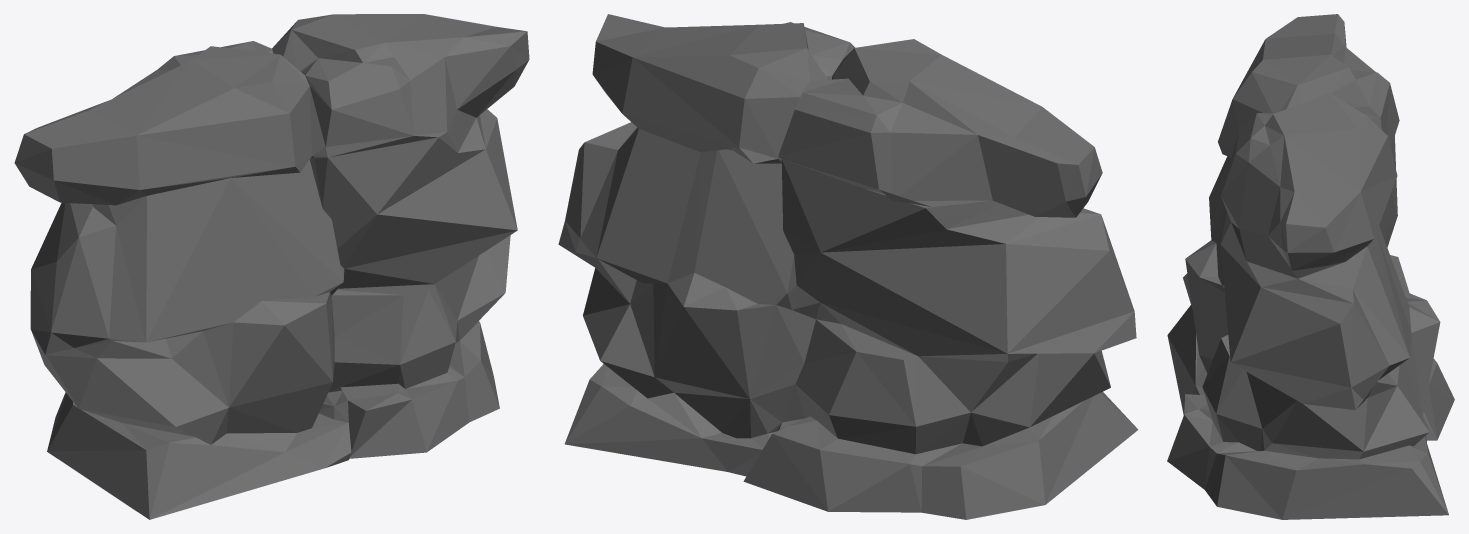
File: rock__rockform_wall_short2_medium.glb
3 views of the same model, side by side, from view 1: azimuth 30°, elevation 25°; view 2: azimuth 150°, elevation 25°; view 3: azimuth 270°, elevation 25° (orthographic). The views are drawn at different scales.
Parts seen in each view (by area): view 1: rockform.wall.short2.medium; view 2: rockform.wall.short2.medium; view 3: rockform.wall.short2.medium.
Boxes of the visible parts, x1,y1,x2,y2 form: rockform.wall.short2.medium: (14, 14, 529, 519); rockform.wall.short2.medium: (558, 14, 1138, 519); rockform.wall.short2.medium: (1167, 14, 1454, 519).
Bounding box in the file's own units: 21.76 × 15.35 × 11.56.
Materials: 1 (1 with a texture image).
